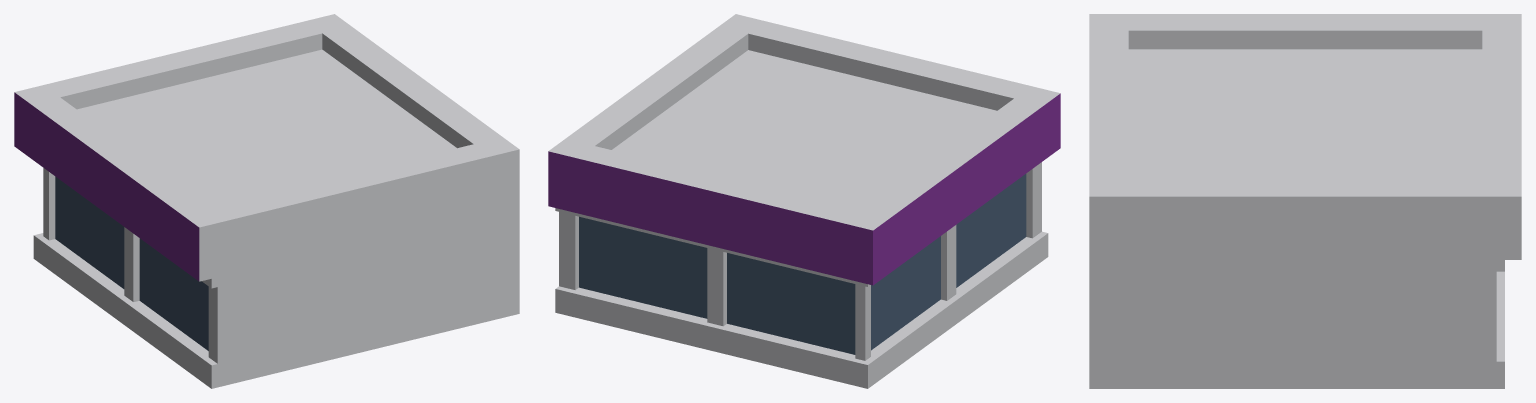
File: garage-office-corner.glb
The picture shows the model from 3 angles, left to right: view 1: azimuth 30°, elevation 25°; view 2: azimuth 150°, elevation 25°; view 3: azimuth 270°, elevation 25°; orthographic projection. The views are drawn at different scales.
Parts seen in each view (by area): view 1: pitsOfficeCorner; view 2: pitsOfficeCorner; view 3: pitsOfficeCorner.
Part boxes in pixels (bbox=[...]): pitsOfficeCorner: bbox=[14, 14, 519, 388]; pitsOfficeCorner: bbox=[548, 14, 1060, 388]; pitsOfficeCorner: bbox=[1089, 14, 1521, 388].
Size of the model in its own units: 1.04 by 0.51 by 1.04.
